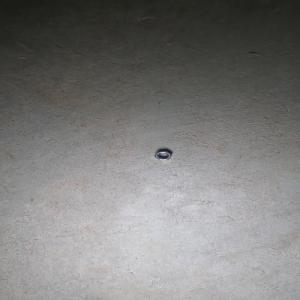Nut: (154, 150, 172, 160)
